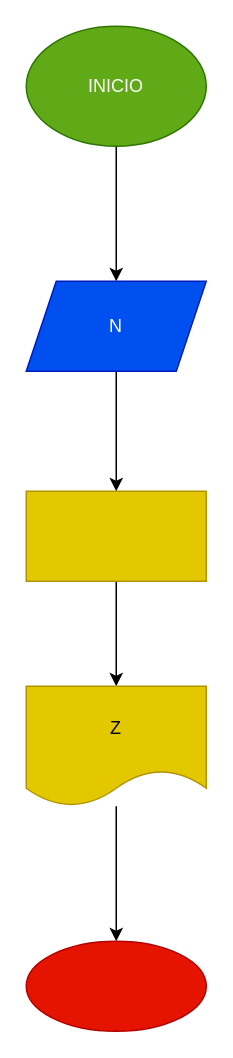
Image size: 233x1058. Some labels were removed from this diagram. Here are the shapes that lost their labels. From the top down, the centre of each, then its label:
At [115,535]: "Z = {N(N+1)}/2".
At [115,985]: "FIN".
